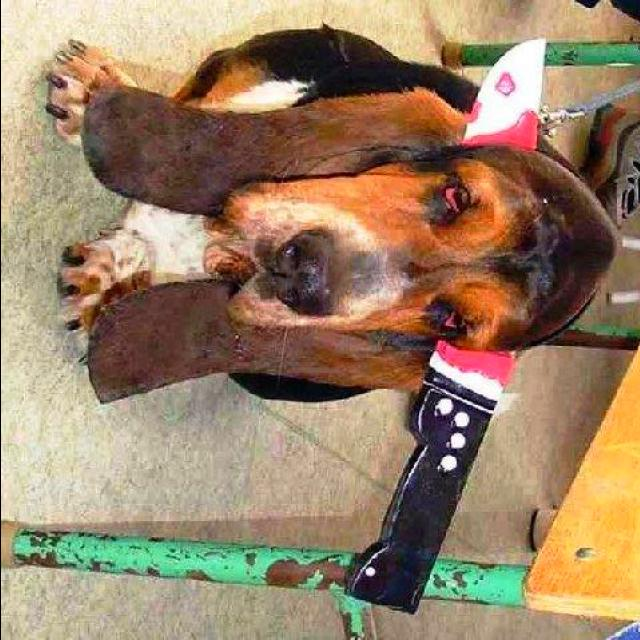basset: (39, 22, 621, 406)
